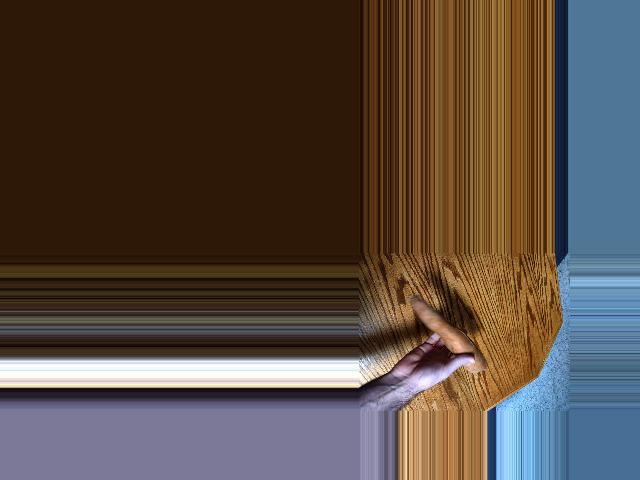sweet_potato: (411, 297, 484, 374)
